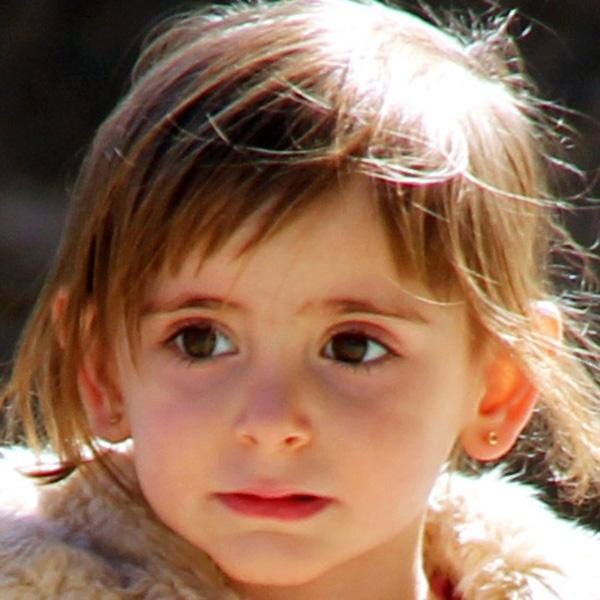Eyes: (308, 316, 407, 382), (154, 311, 245, 373)
